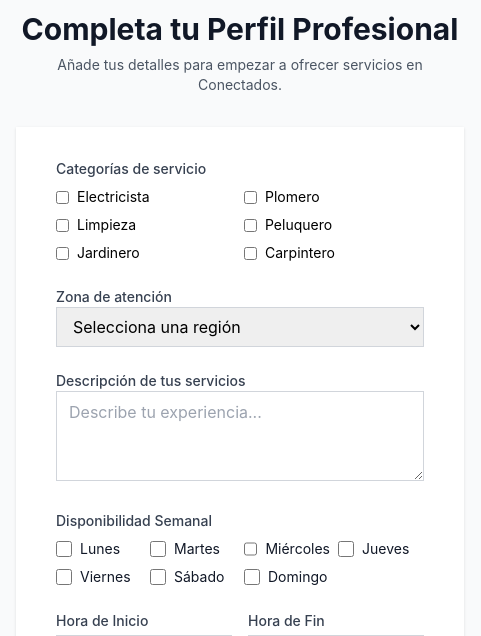
Test case: BecomeProPage › debe mostrar un error si el usuario no está identificado (user.correo es nulo)
The width and height of the screenshot is (481, 636).
// Rellenar campos necesarios para pasar otras validaciones
In the text box with placeholder "Describe tu experiencia...": (240, 436) [56,391,424,481], type "test"
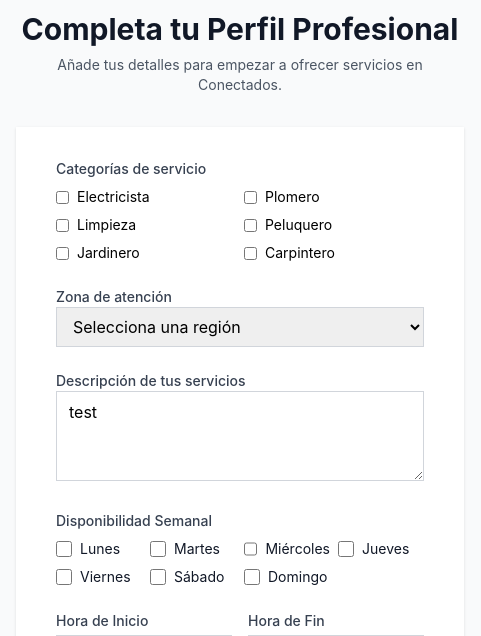
Select "Región Metropolitana" in the dropdown labelled "Zona de atención": (240, 327) [56,307,424,347]
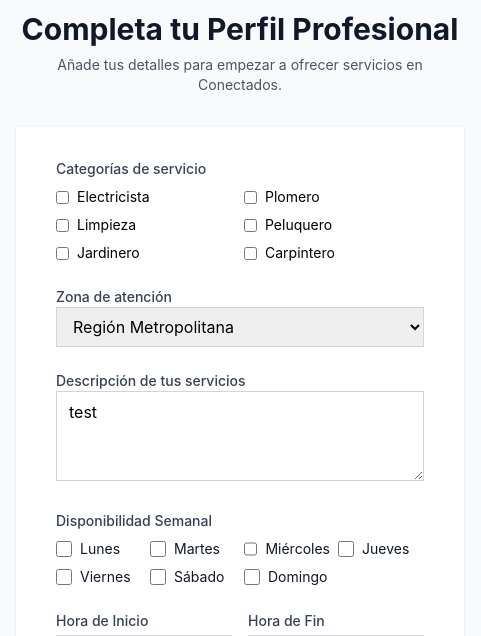
Click the checkbox labelled "Electricista": click(62, 197) [56,190,69,204]
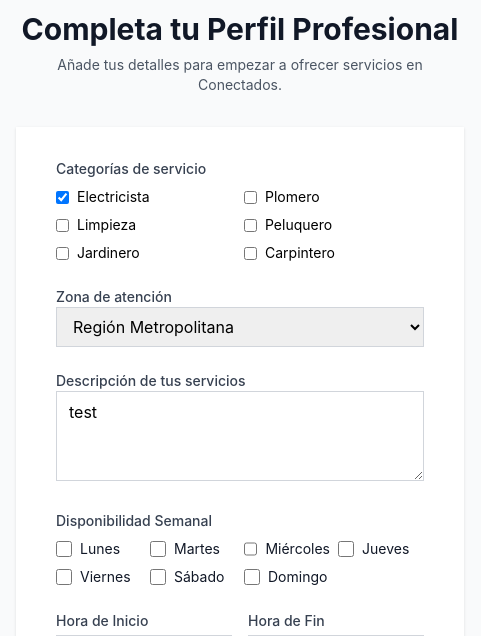
Click the checkbox labelled "Lunes": click(64, 549) [56,541,72,557]
(page scrolled)
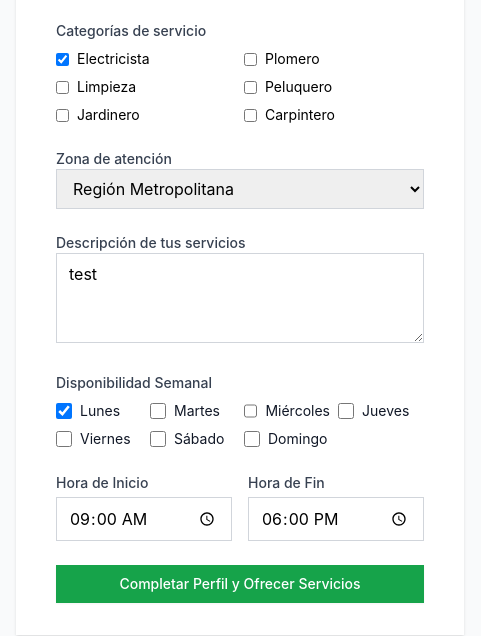
Click the button "Completar Perfil y Ofrecer Servicios": click(240, 584) [56,565,424,603]
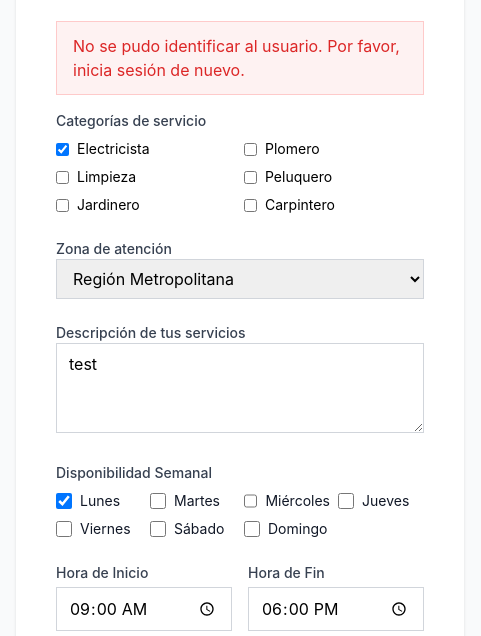
Expected: the text "No se pudo identificar al usuario. Por favor, inicia sesión de nuevo." is shown, [56,21,424,95]
